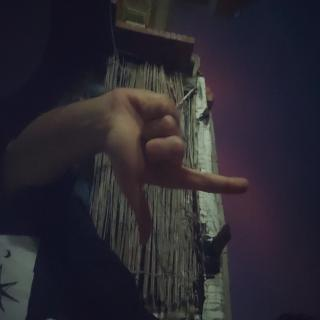LAAM: (58, 90, 187, 288)
